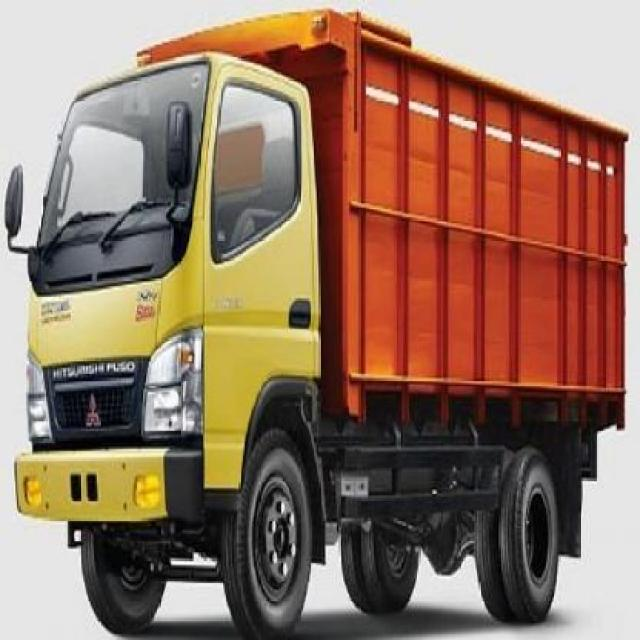truck: (6, 3, 627, 640)
